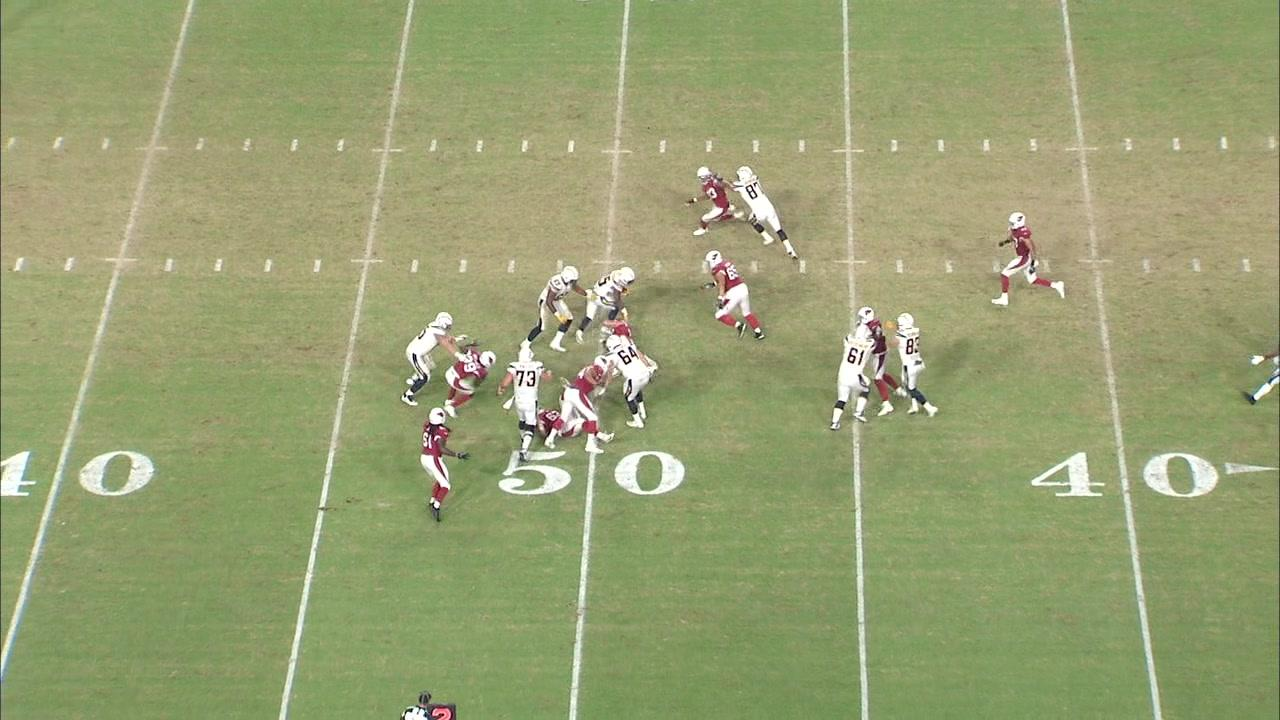five_hash: (599, 146, 636, 158), (102, 255, 140, 266), (133, 143, 169, 154), (370, 145, 406, 156), (348, 257, 387, 267), (829, 146, 868, 156), (831, 257, 870, 267), (1063, 144, 1102, 154), (591, 258, 631, 267)
hash: (889, 253, 911, 280), (1022, 134, 1045, 157), (791, 135, 813, 158), (1137, 254, 1158, 278), (743, 256, 765, 278), (931, 136, 952, 158), (793, 256, 813, 279), (259, 255, 280, 276), (95, 134, 117, 154), (745, 136, 765, 158), (404, 256, 424, 278), (885, 135, 904, 158), (48, 133, 68, 154), (515, 135, 535, 156), (1118, 135, 1139, 155), (1215, 133, 1235, 154), (940, 258, 960, 279), (307, 257, 327, 278), (209, 255, 229, 276), (159, 255, 178, 277), (470, 136, 490, 156), (978, 136, 998, 156), (236, 136, 257, 155), (283, 137, 304, 156), (503, 257, 522, 278), (1168, 134, 1186, 156), (1187, 254, 1205, 276), (0, 136, 20, 155), (699, 137, 719, 156), (1237, 255, 1256, 275), (453, 257, 472, 277), (60, 254, 78, 275), (562, 137, 581, 156), (333, 136, 351, 156), (655, 136, 673, 156), (649, 258, 667, 278), (9, 254, 27, 274), (192, 136, 209, 155), (425, 137, 441, 154)
number: (1027, 445, 1222, 505), (493, 444, 691, 500)
